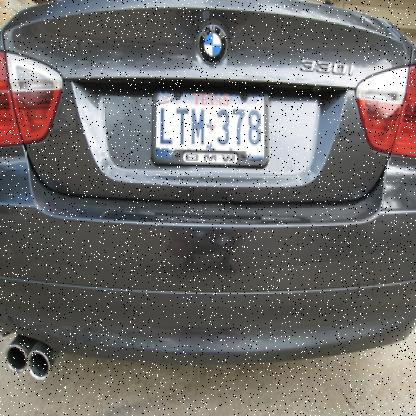licence: (153, 83, 266, 162)
